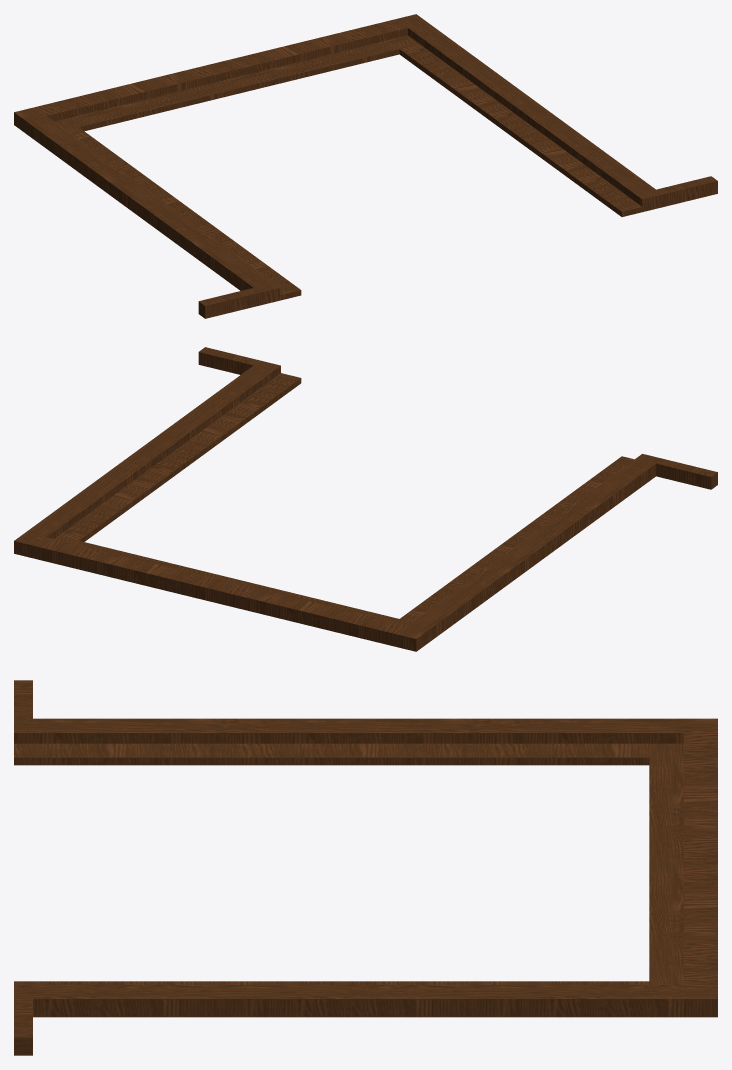
Rendered from Wooden_Object.fbx.
The picture shows the model from 3 angles, top to bottom: view 1: azimuth 30°, elevation 25°; view 2: azimuth 150°, elevation 25°; view 3: azimuth 270°, elevation 25°; orthographic projection. The views are drawn at different scales.
Visible parts, largest first — view 1: Wooden_Object; view 2: Wooden_Object; view 3: Wooden_Object.
Part boxes in pixels (x1,y1,x2,y2): Wooden_Object: [14, 14, 717, 318]; Wooden_Object: [14, 347, 717, 651]; Wooden_Object: [14, 680, 717, 1055].
Bounding box in the file's own units: 516 × 12.28 × 429.
